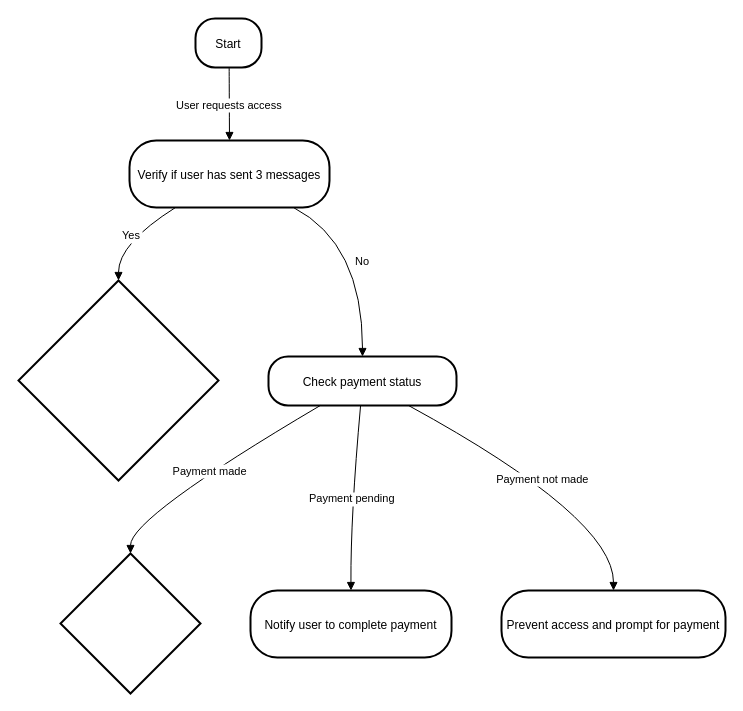
This 743x711 diagram has some shape labels left out. The centre of each missing label's shape, as x and y in pixels:
Allow access: the point at 130,623
Allow access for free: the point at 118,380
